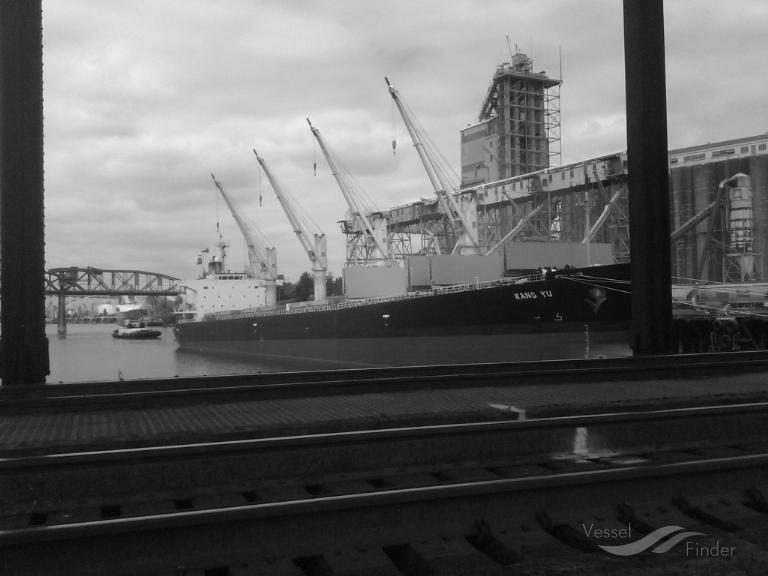OCR: (508, 286, 552, 306)
